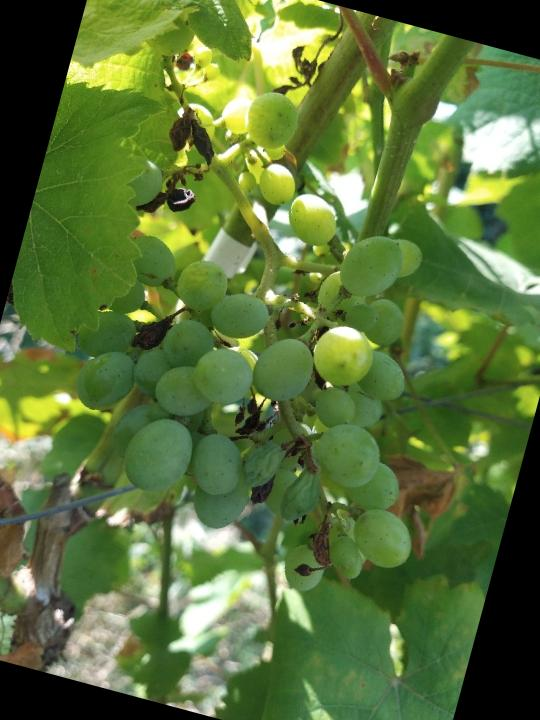grape: (27, 57, 518, 619)
